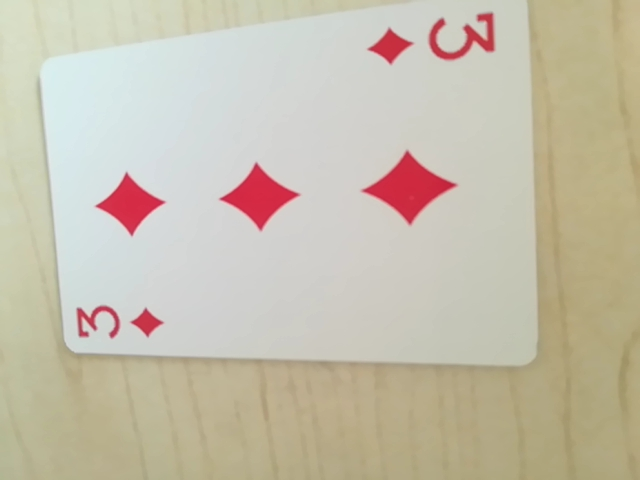fk 3: (371, 6, 502, 72), (70, 296, 169, 350)
